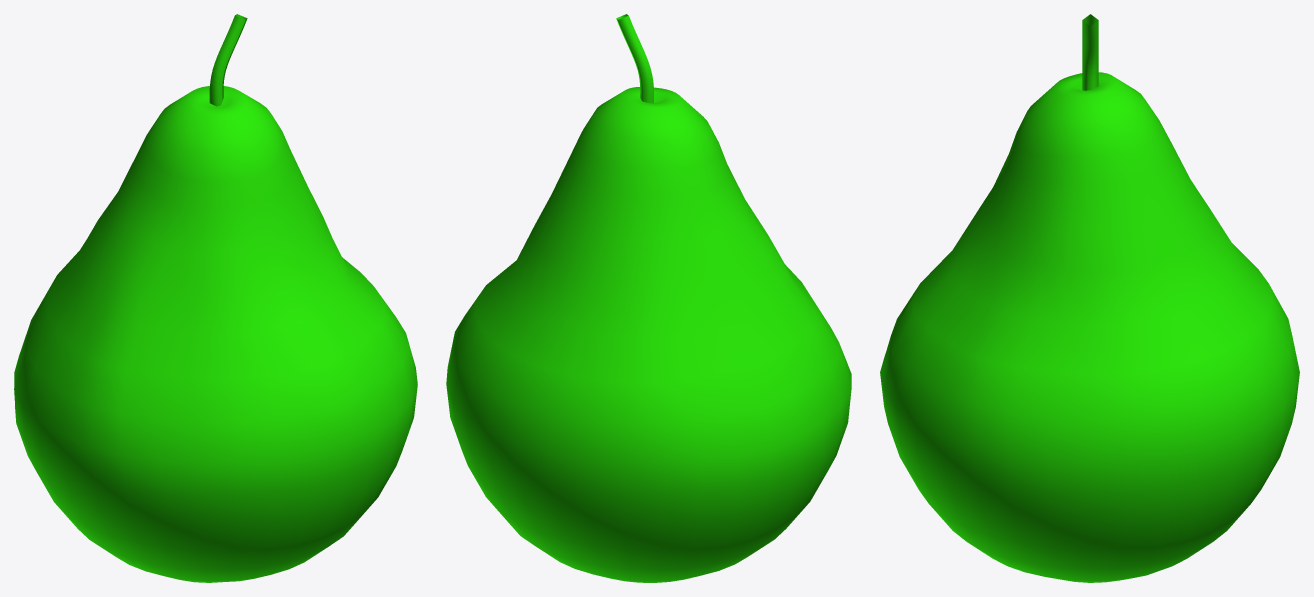
The model's file is PearA.fbx.
3 renders of one model, left to right at view 1: azimuth 30°, elevation 25°; view 2: azimuth 150°, elevation 25°; view 3: azimuth 270°, elevation 25°, orthographic. The views are drawn at different scales.
Parts seen in each view (by area): view 1: PearASingleMaterial; view 2: PearASingleMaterial; view 3: PearASingleMaterial.
Part boxes in pixels (x1=…): PearASingleMaterial: x1=14, y1=14, x2=417, y2=582; PearASingleMaterial: x1=446, y1=14, x2=851, y2=582; PearASingleMaterial: x1=880, y1=14, x2=1299, y2=582.
Size of the model in its own units: 9.9 by 14.72 by 10.
